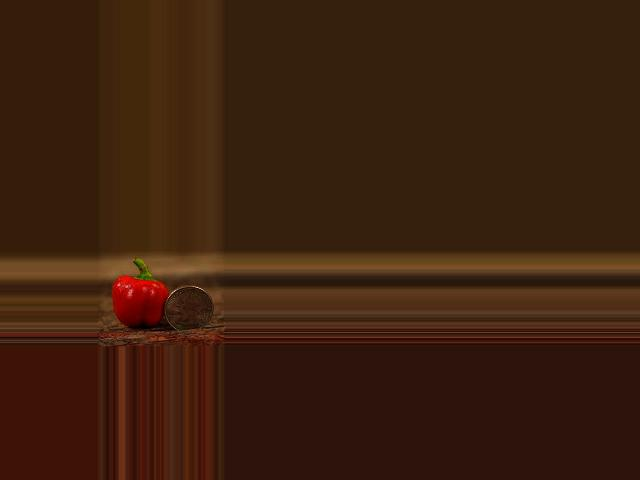bell_pepper: (111, 258, 166, 330)
